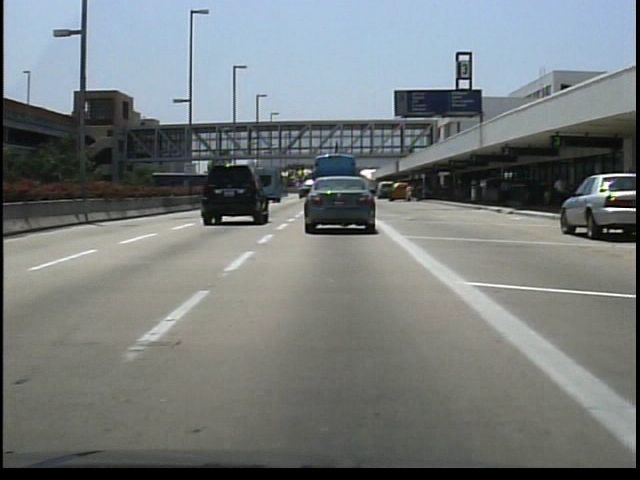person: (551, 170, 569, 211), (496, 175, 514, 210), (403, 179, 419, 206), (366, 138, 379, 159), (331, 136, 344, 156)
